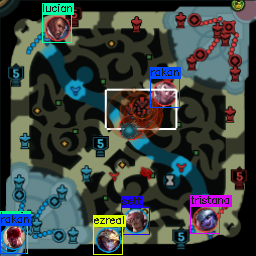ezreal: (95, 227, 121, 253)
leesin: (1, 226, 26, 249)
lucian: (45, 16, 70, 42)
rakan: (152, 81, 178, 105)
sett: (122, 208, 148, 233)
tristana: (193, 207, 219, 232)
